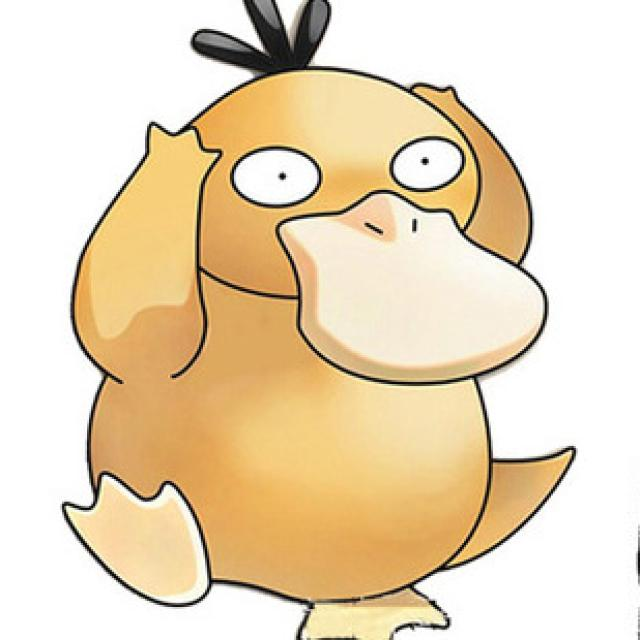Psyduck: (62, 57, 549, 614)
